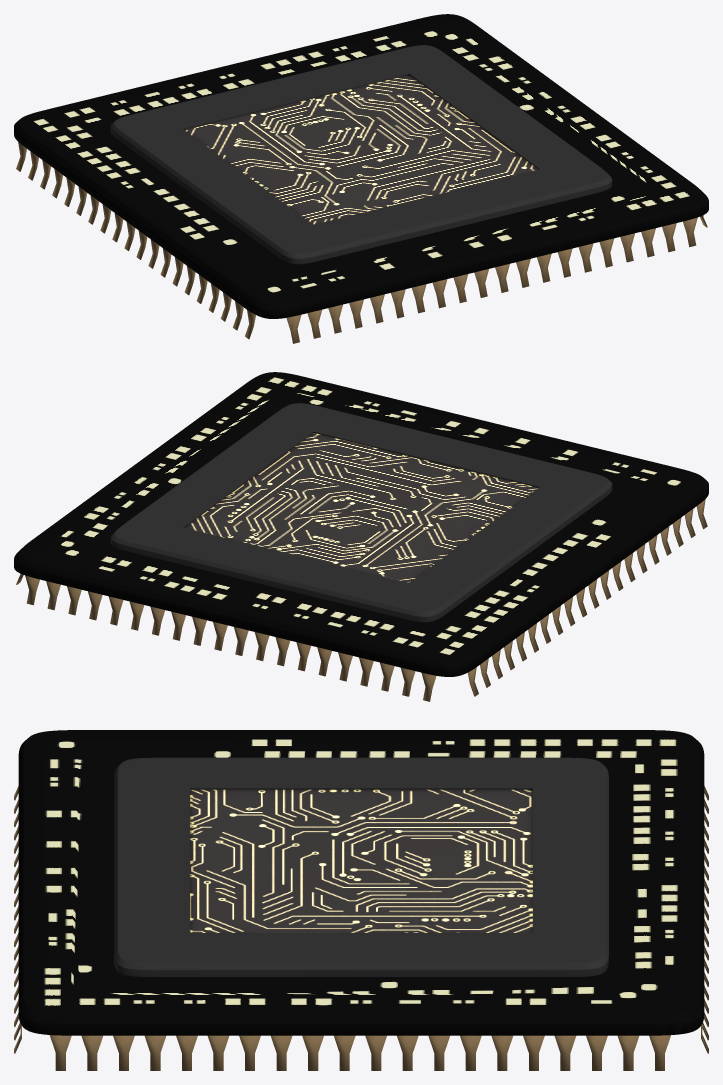
Rendered from cpu-311 (1).glb.
3 views of the same model, one above another, from view 1: azimuth 30°, elevation 25°; view 2: azimuth 150°, elevation 25°; view 3: azimuth 270°, elevation 25° (orthographic). The views are drawn at different scales.
Parts seen in each view (by area): view 1: Die, Cpu Die, CPU, Plane, Plane.001; view 2: Die, Cpu Die, CPU, Plane, Plane.001; view 3: Die, Cpu Die, CPU, Plane.001, Plane.
Part boxes in pixels (left/top/right/bottom): Die: left=14, top=14, right=708, bottom=318; Cpu Die: left=110, top=45, right=612, bottom=264; CPU: left=184, top=75, right=538, bottom=224; Plane: left=28, top=150, right=697, bottom=343; Plane.001: left=16, top=142, right=707, bottom=339; Die: left=14, top=372, right=708, bottom=676; Cpu Die: left=110, top=403, right=612, bottom=622; CPU: left=184, top=433, right=538, bottom=582; Plane: left=25, top=508, right=694, bottom=701; Plane.001: left=16, top=499, right=707, bottom=696; Die: left=18, top=730, right=704, bottom=1035; Cpu Die: left=114, top=757, right=608, bottom=976; CPU: left=190, top=789, right=532, bottom=932; Plane.001: left=49, top=1035, right=670, bottom=1070; Plane: left=14, top=786, right=708, bottom=1053.
Bounding box in the file's own units: 2.02 × 0.2062 × 2.03.
Materials: 5 (2 with a texture image).
